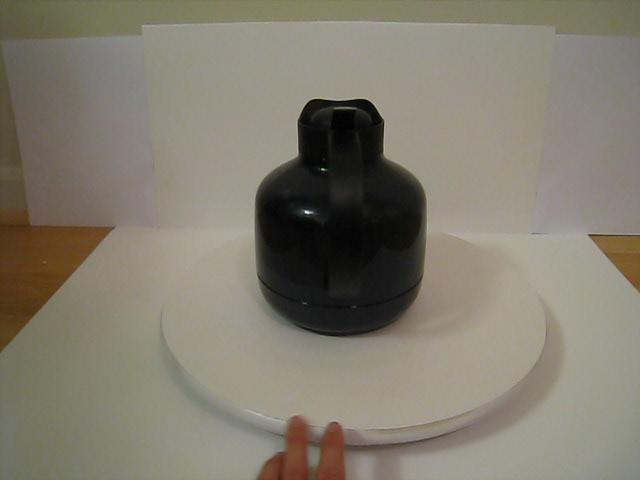pitcher: (239, 85, 443, 355)
